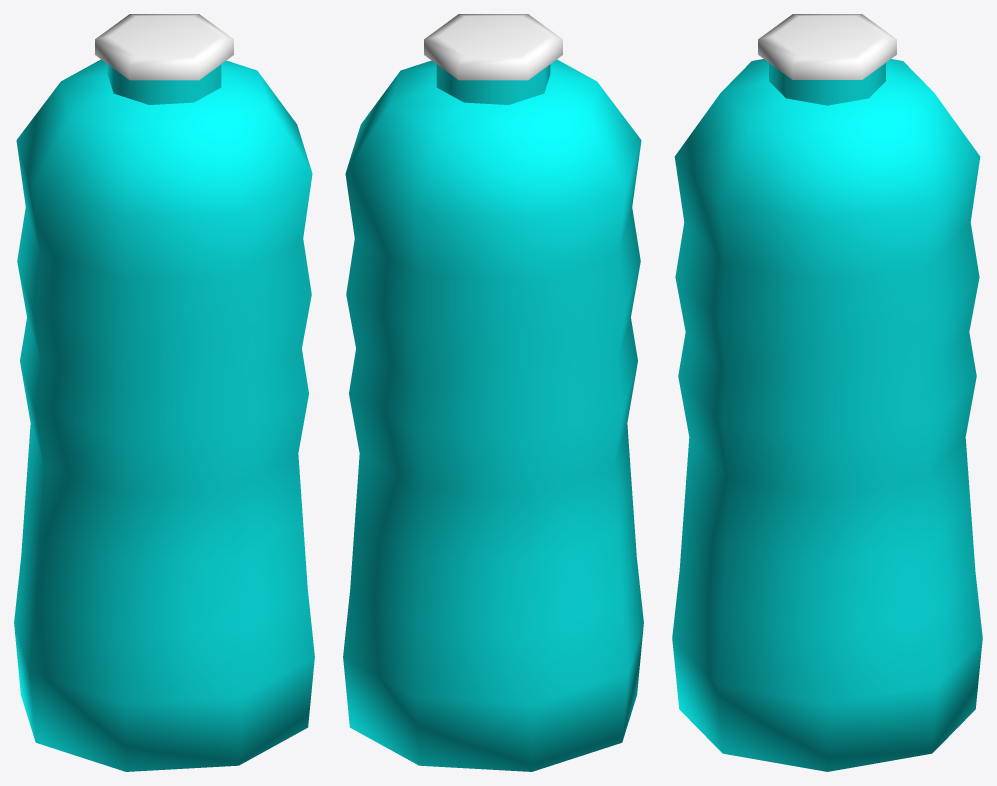
File: Bottle.fbx
The picture shows the model from 3 angles, left to right: view 1: azimuth 30°, elevation 25°; view 2: azimuth 150°, elevation 25°; view 3: azimuth 270°, elevation 25°; orthographic projection.
Visible parts, largest first — view 1: Bottle; view 2: Bottle; view 3: Bottle.
Part boxes in pixels (x1=…): Bottle: x1=14, y1=14, x2=314, y2=771; Bottle: x1=343, y1=14, x2=643, y2=771; Bottle: x1=672, y1=14, x2=982, y2=771.
Size of the model in its own units: 0.128 by 0.3101 by 0.128.
